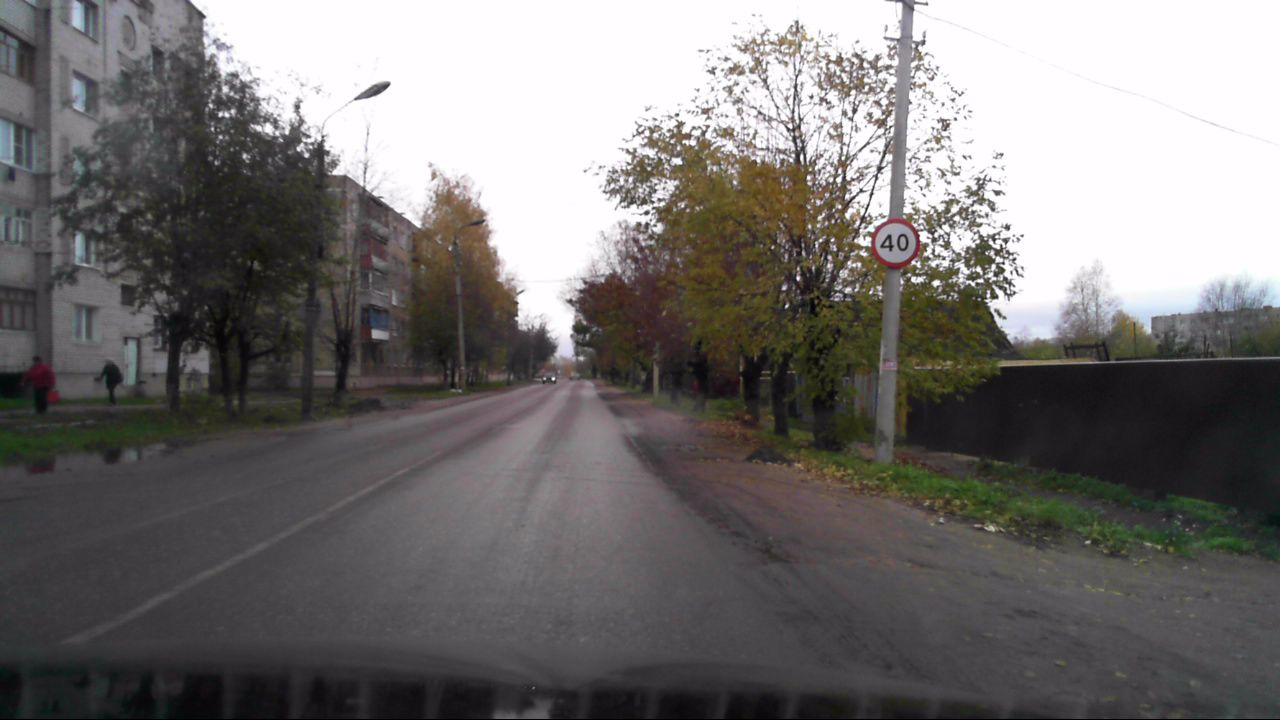speed_warning_40: (871, 217, 920, 268)
